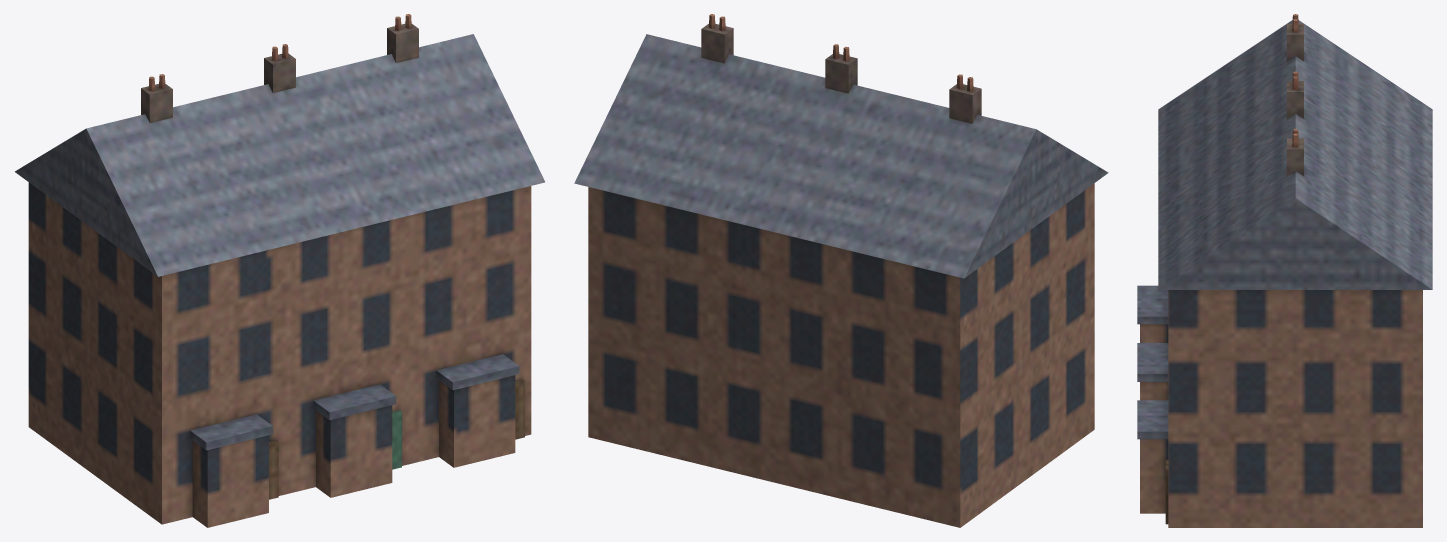
Rendered from SM_House_Terrace_A.fbx.
3 renders of one model, left to right at view 1: azimuth 30°, elevation 25°; view 2: azimuth 150°, elevation 25°; view 3: azimuth 270°, elevation 25°, orthographic. The views are drawn at different scales.
Parts seen in each view (by area): view 1: SM_House_Terrace_A; view 2: SM_House_Terrace_A; view 3: SM_House_Terrace_A.
Boxes of the visible parts, x1,y1,x2,y2 form: SM_House_Terrace_A: [15, 14, 544, 527]; SM_House_Terrace_A: [574, 14, 1108, 527]; SM_House_Terrace_A: [1137, 14, 1432, 527].
Bounding box in the file's own units: 1510 × 1432 × 1045.
1 material, 1 textured.
